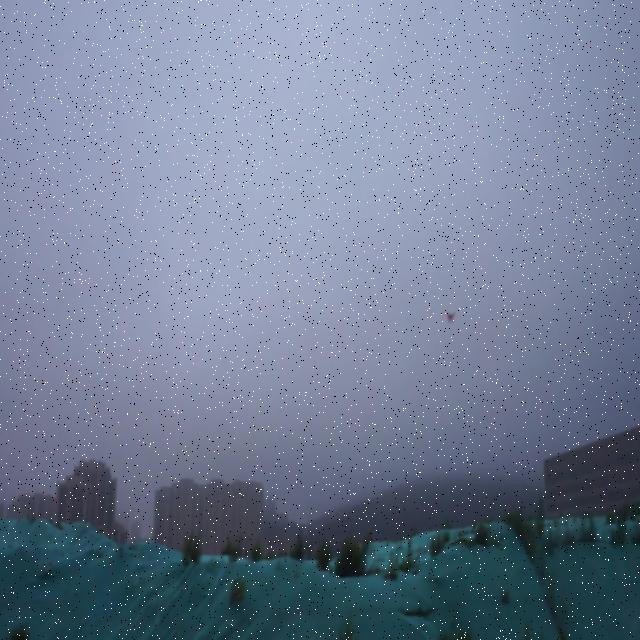UAV: (445, 312, 456, 324)
